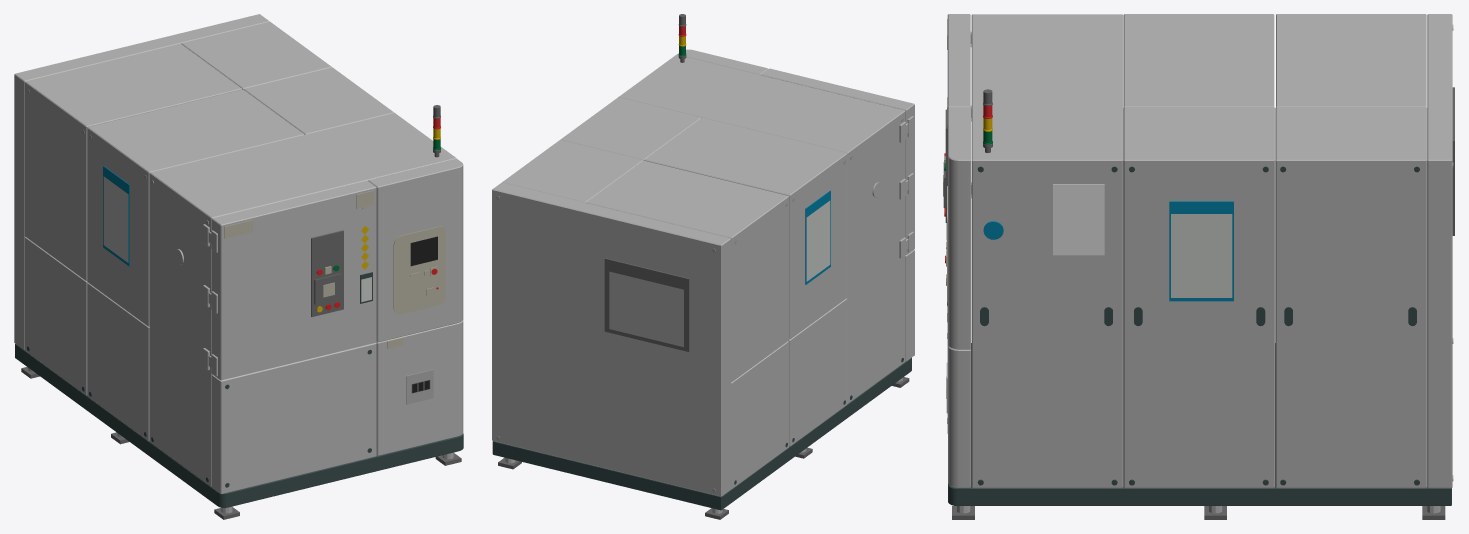
Rendered from SYL2_02.fbx.
3 renders of one model, left to right at view 1: azimuth 30°, elevation 25°; view 2: azimuth 150°, elevation 25°; view 3: azimuth 270°, elevation 25°, orthographic. The views are drawn at different scales.
Visible parts, largest first — view 1: SYL2_02; view 2: SYL2_02; view 3: SYL2_02.
Part boxes in pixels (x1=…): SYL2_02: x1=14, y1=14, x2=463, y2=519; SYL2_02: x1=492, y1=14, x2=914, y2=519; SYL2_02: x1=943, y1=14, x2=1454, y2=519.
Size of the model in its own units: 126 by 165 by 181.
